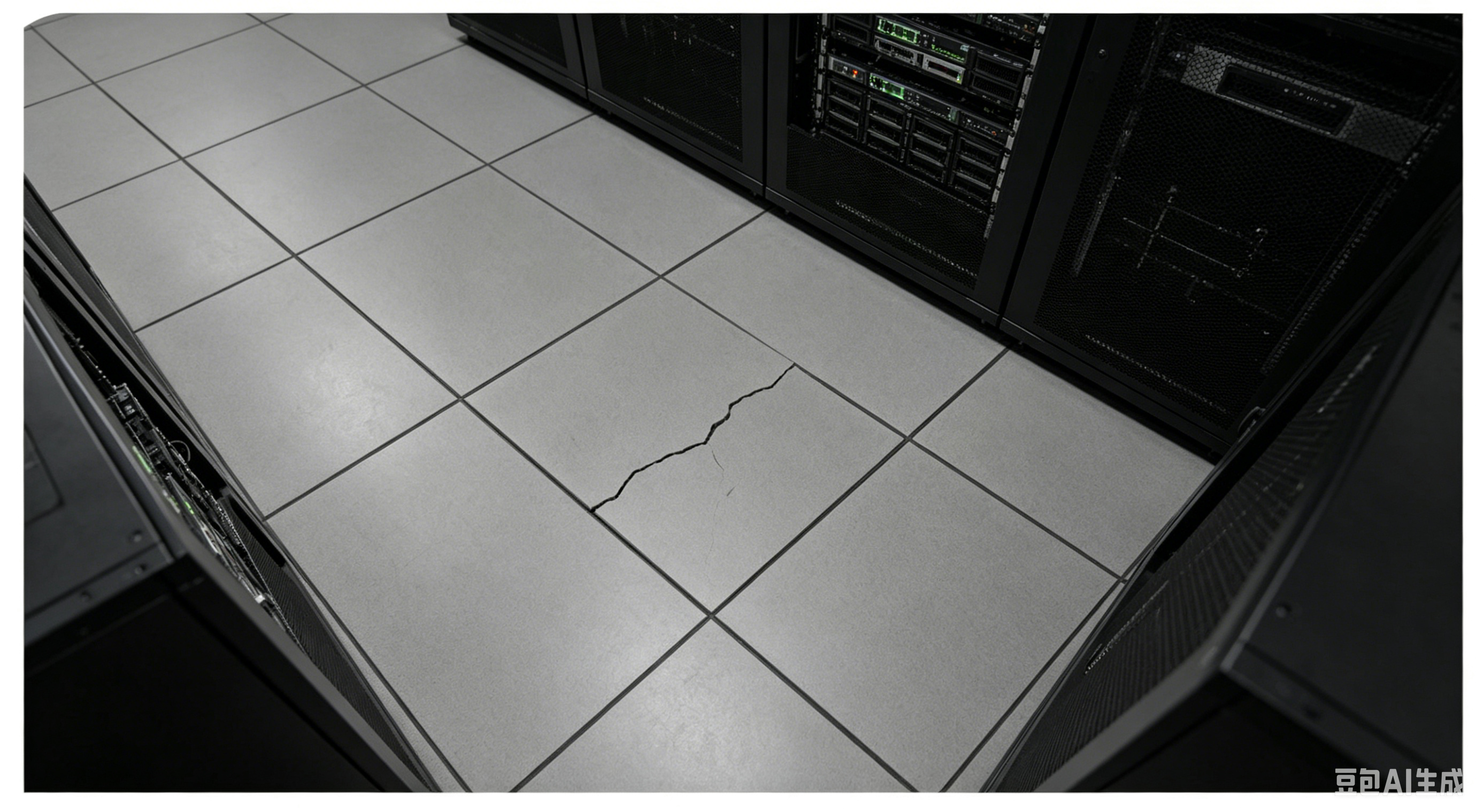floor_defect: (587, 428, 689, 531), (680, 381, 746, 474), (740, 347, 802, 419)
